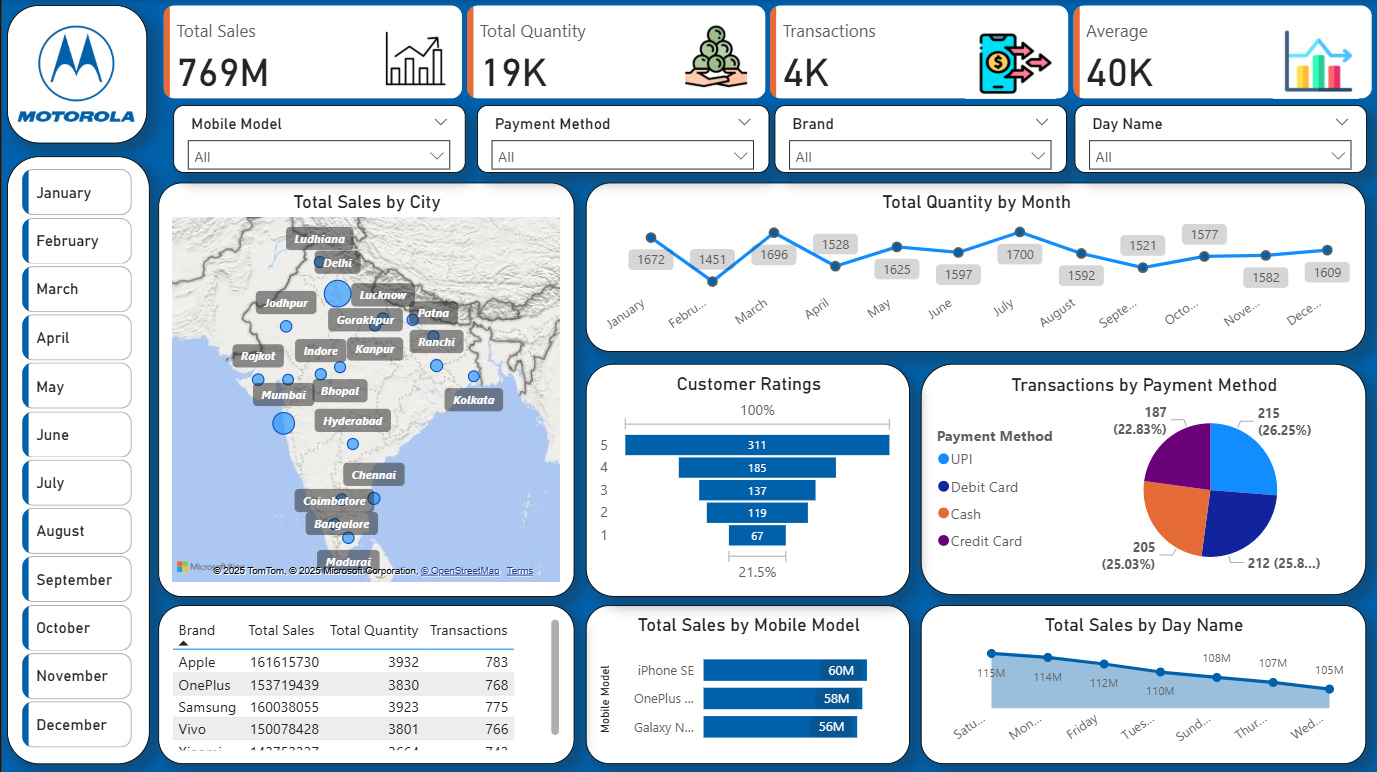

This screenshot's page, from the dashboard's own definition file:
{"tool":"powerbi","page":{"name":"Page 1","canvas":[1280,720],"ordinal":0},"visuals":[{"type":"shape","box":[4.7,4.7,130.2,129.1],"z":0},{"type":"shape","box":[4.1,145.5,133.1,565.4],"z":2000},{"type":"advancedSlicerVisual","fields":{"Values":["Sales_Data.Date.Variation.Date Hierarchy.Month"]},"box":[13.7,152.3,112.5,550.3],"z":3000},{"type":"cardVisual","fields":{"Data":["Sales_Data.Total Sales","Sales_Data.Total Quantity","Sales_Data.Transactions","Sales_Data.Average"]},"box":[145.5,0,1134.8,97.4],"z":4000},{"type":"map","fields":{"Category":["Sales_Data.City"],"Size":["Sales_Data.Total Sales"]},"box":[145.5,170.2,387,385.6],"z":5000},{"type":"lineChart","fields":{"Y":["Sales_Data.Total Quantity"],"Category":["Sales_Data.Date.Variation.Date Hierarchy.Month","Sales_Data.Date.Variation.Date Hierarchy.Day"]},"box":[543.4,170.2,725.9,157.8],"z":6000},{"type":"clusteredBarChart","fields":{"Category":["Sales_Data.Mobile Model"],"Y":["Sales_Data.Total Sales"]},"box":[543.4,562.6,301.9,148.2],"z":7000},{"type":"pieChart","fields":{"Category":["Sales_Data.Payment Method"],"Y":["Sales_Data.Transactions"]},"box":[854.9,338.9,414.4,215.4],"z":8000},{"type":"funnel","title":"Customer Ratings","fields":{"Category":["Sales_Data.Customer Ratings"],"Y":["CountNonNull(Sales_Data.Customer Ratings)"]},"box":[543.4,338.9,301.9,216.8],"z":9000},{"type":"areaChart","fields":{"Category":["Sales_Data.Day Name"],"Y":["Sales_Data.Total Sales"]},"box":[854.9,562.6,414.4,148.2],"z":10000},{"type":"tableEx","fields":{"Values":["Sales_Data.Brand","Sales_Data.Total Sales","Sales_Data.Total Quantity","Sales_Data.Transactions"]},"box":[145.5,562.6,387,148.2],"z":11000},{"type":"slicer","fields":{"Values":["Sales_Data.Mobile Model"]},"box":[159.2,97.4,271.7,63.1],"z":12000},{"type":"slicer","fields":{"Values":["Sales_Data.Payment Method"]},"box":[441.9,97.4,271.7,63.1],"z":13000},{"type":"slicer","fields":{"Values":["Sales_Data.Brand"]},"box":[719,97.4,271.7,63.1],"z":14000},{"type":"slicer","fields":{"Values":["Sales_Data.Day Name"]},"box":[997.6,97.4,271.7,63.1],"z":15000},{"type":"image","box":[8.2,5.5,122.1,124.9],"z":15001}]}

Visuals, with their boxes in screenshot pixels (x1, y1, x2, y2), scaled from the page's 1280x720 canvas onto the 1377x772 screenshot:
shape: x1=5 y1=5 x2=145 y2=143
shape: x1=4 y1=156 x2=148 y2=762
advancedSlicerVisual - Sales_Data.Date.Variation.Date Hierarchy.Month: x1=15 y1=163 x2=136 y2=753
cardVisual - Sales_Data.Total Sales x Sales_Data.Total Quantity: x1=157 y1=0 x2=1376 y2=104
map - Sales_Data.City x Sales_Data.Total Sales: x1=157 y1=182 x2=573 y2=596
lineChart - Sales_Data.Total Quantity x Sales_Data.Date.Variation.Date Hierarchy.Month: x1=585 y1=182 x2=1365 y2=352
clusteredBarChart - Sales_Data.Mobile Model x Sales_Data.Total Sales: x1=585 y1=603 x2=909 y2=762
pieChart - Sales_Data.Payment Method x Sales_Data.Transactions: x1=920 y1=363 x2=1365 y2=594
"Customer Ratings" funnel: x1=585 y1=363 x2=909 y2=596
areaChart - Sales_Data.Day Name x Sales_Data.Total Sales: x1=920 y1=603 x2=1365 y2=762
tableEx - Sales_Data.Brand x Sales_Data.Total Sales: x1=157 y1=603 x2=573 y2=762
slicer - Sales_Data.Mobile Model: x1=171 y1=104 x2=464 y2=172
slicer - Sales_Data.Payment Method: x1=475 y1=104 x2=768 y2=172
slicer - Sales_Data.Brand: x1=773 y1=104 x2=1066 y2=172
slicer - Sales_Data.Day Name: x1=1073 y1=104 x2=1365 y2=172
image: x1=9 y1=6 x2=140 y2=140
